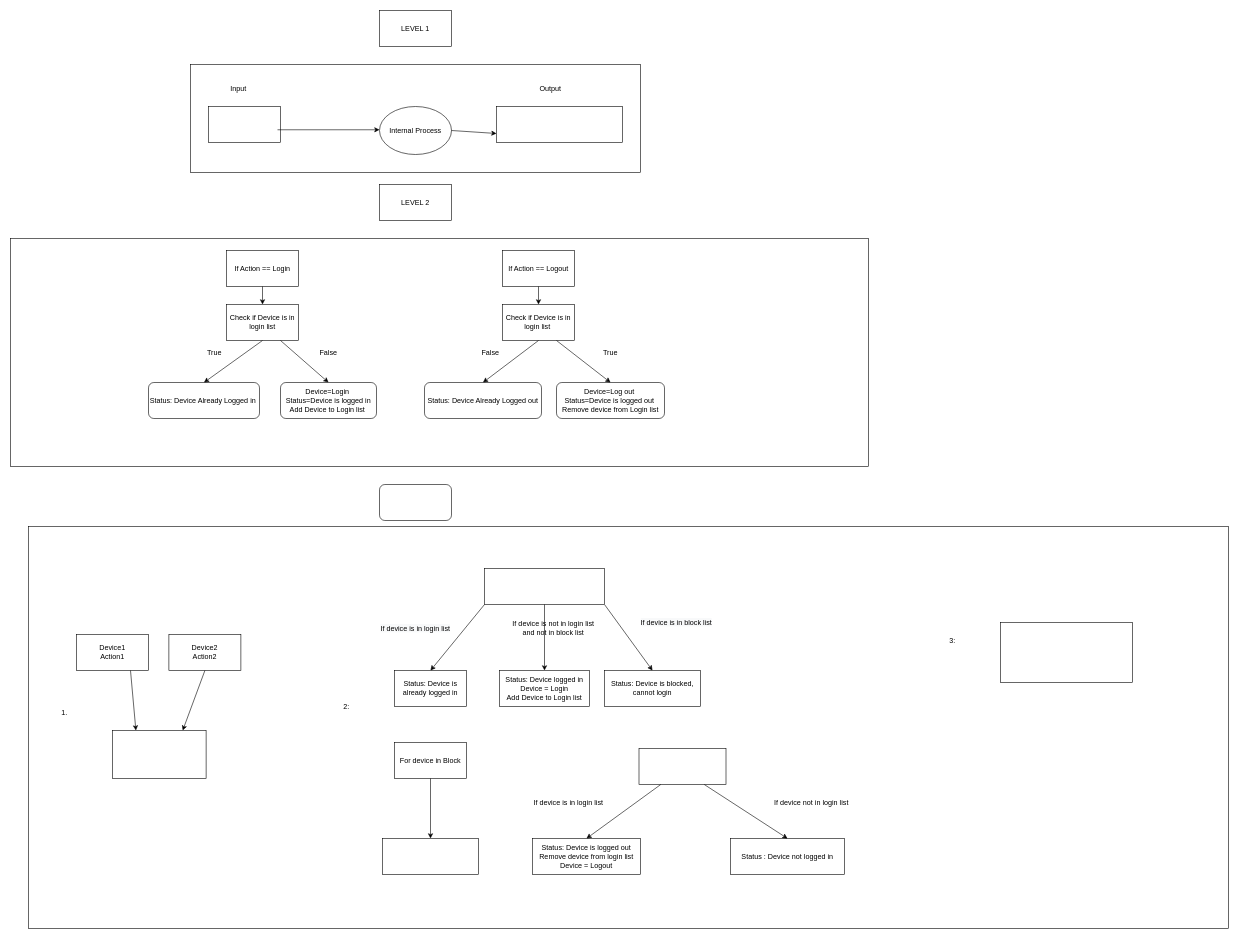
The diagram is 1239 pixels wide and 939 high, and some of its shapes have lost their labels. The shapes that lost their labels are listed below. From the top down, each one's centre as x and y in pixels, then its label:
point (244, 124): Device name Action
point (559, 124): Status: Device logged in/ logged out
point (415, 502): LEVEL 3
point (544, 586): For device in logins
point (1066, 652): status: Device logged in / Device logged out /Device Blocked
point (159, 754): Logins [ ] Logouts [ ] Block [ ]
point (682, 766): For device in logouts
point (430, 856): Add device to Block list Status: Device is blocked Device = Block
